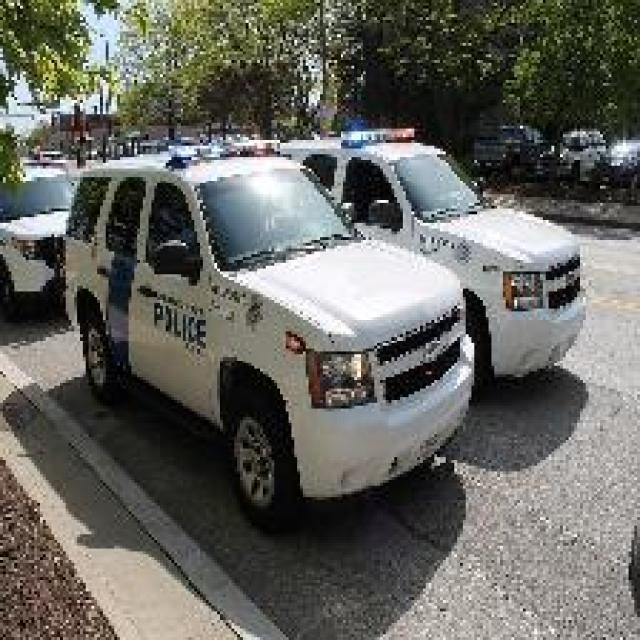emergency: (66, 133, 478, 522), (224, 127, 588, 390)
